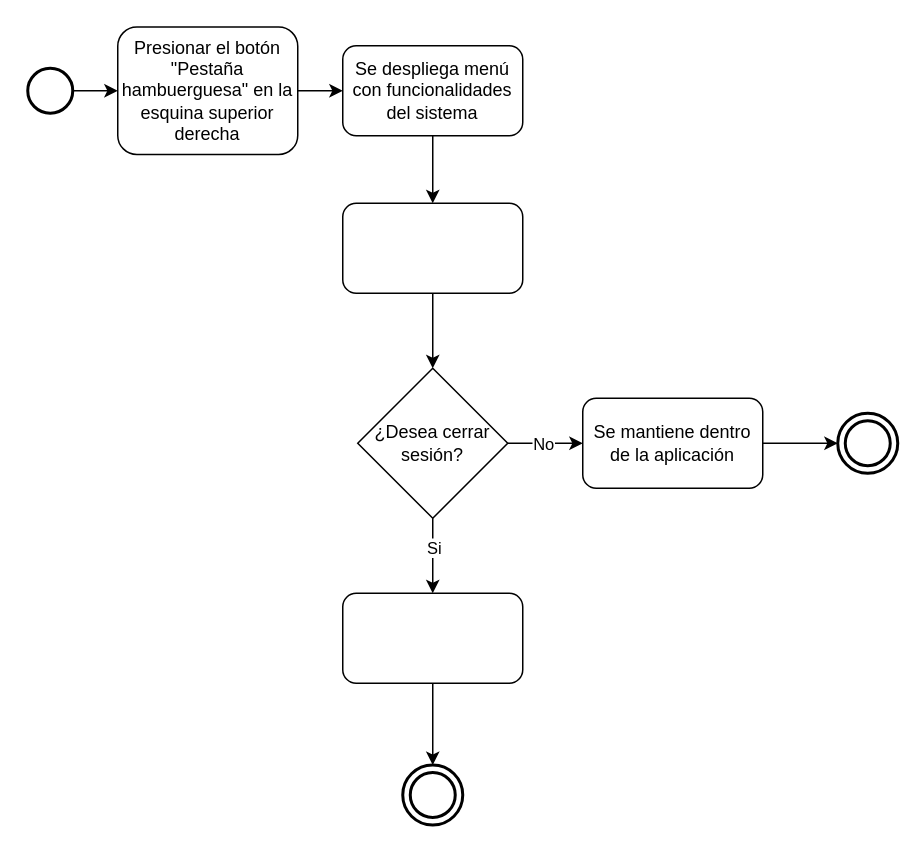
This 924x852 diagram has some shape labels left out. The centre of each missing label's shape, as x and y in pixels:
Se cierra la sesión del usuario: the point at 432,637
Se presiona la opción "Cerrar sesión": the point at 432,247
